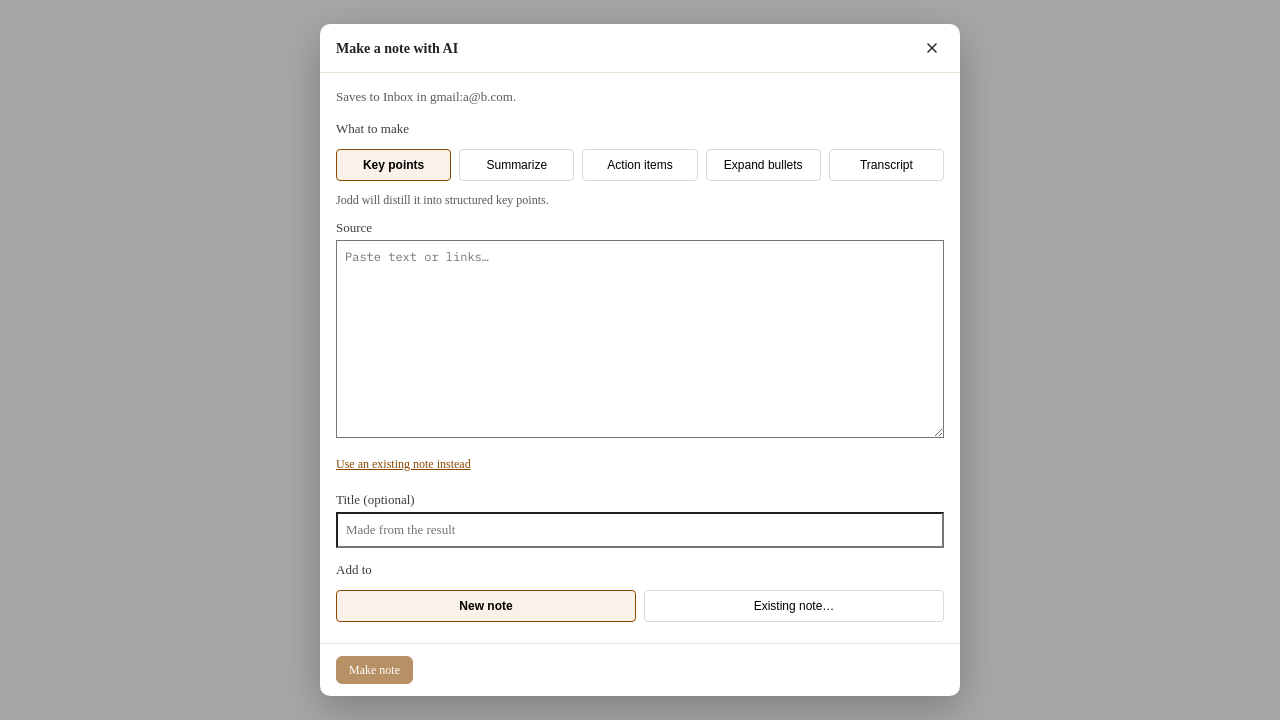
LessonExtractModal on Modal › a typed title alone makes closing ask
Type "Mine" into the field with placeholder "Made from the result" at [640, 530], box [336,512,944,548]
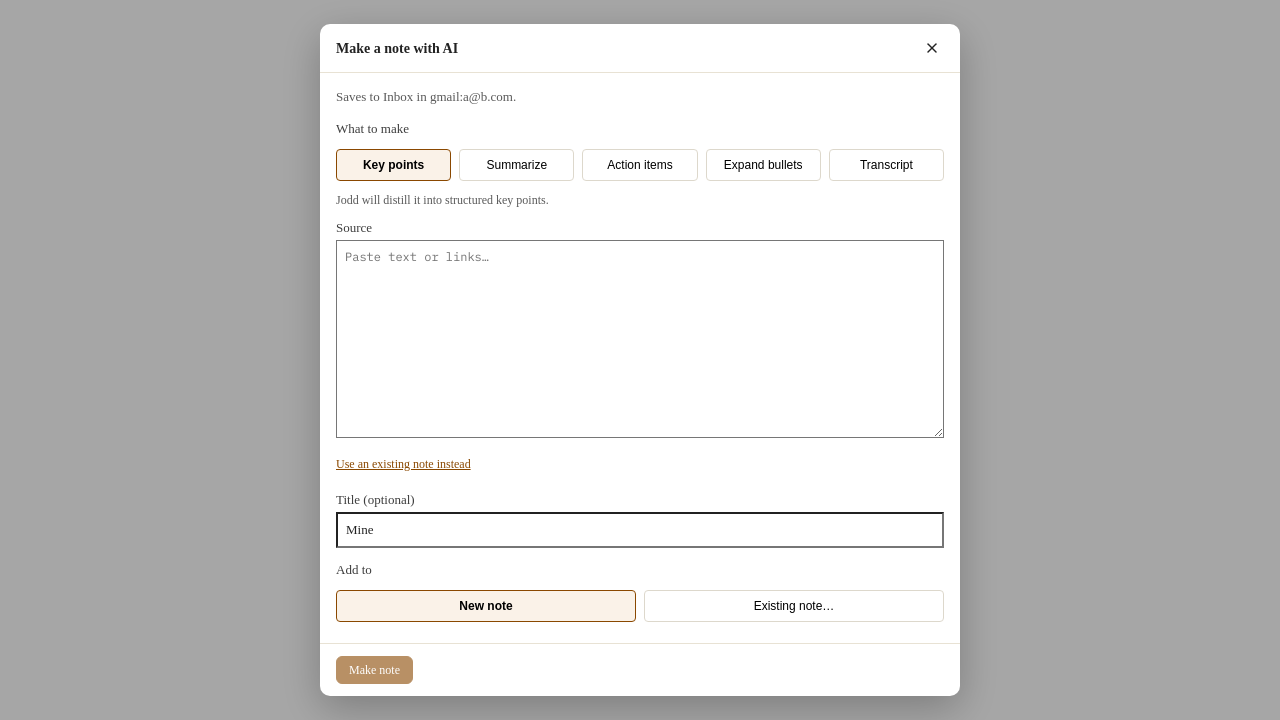
Press Escape in the dialog
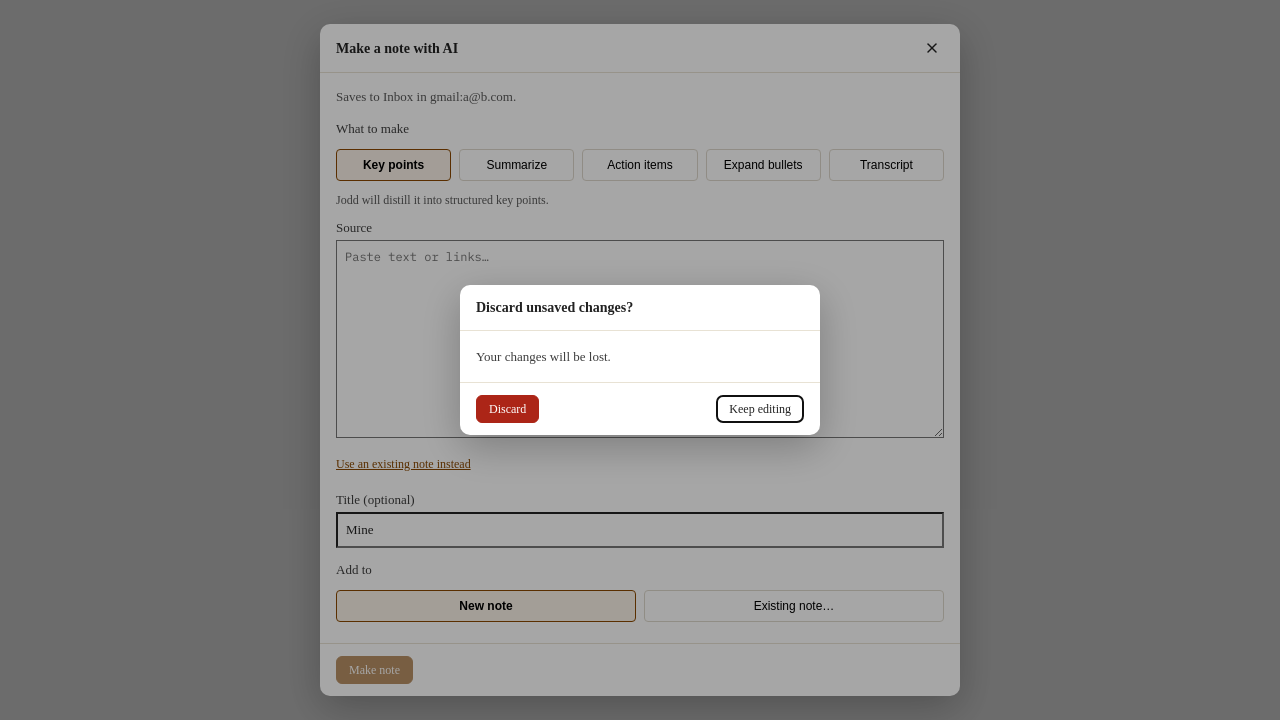
expect the dialog that starts with "Discard unsaved changes?" is shown: met
